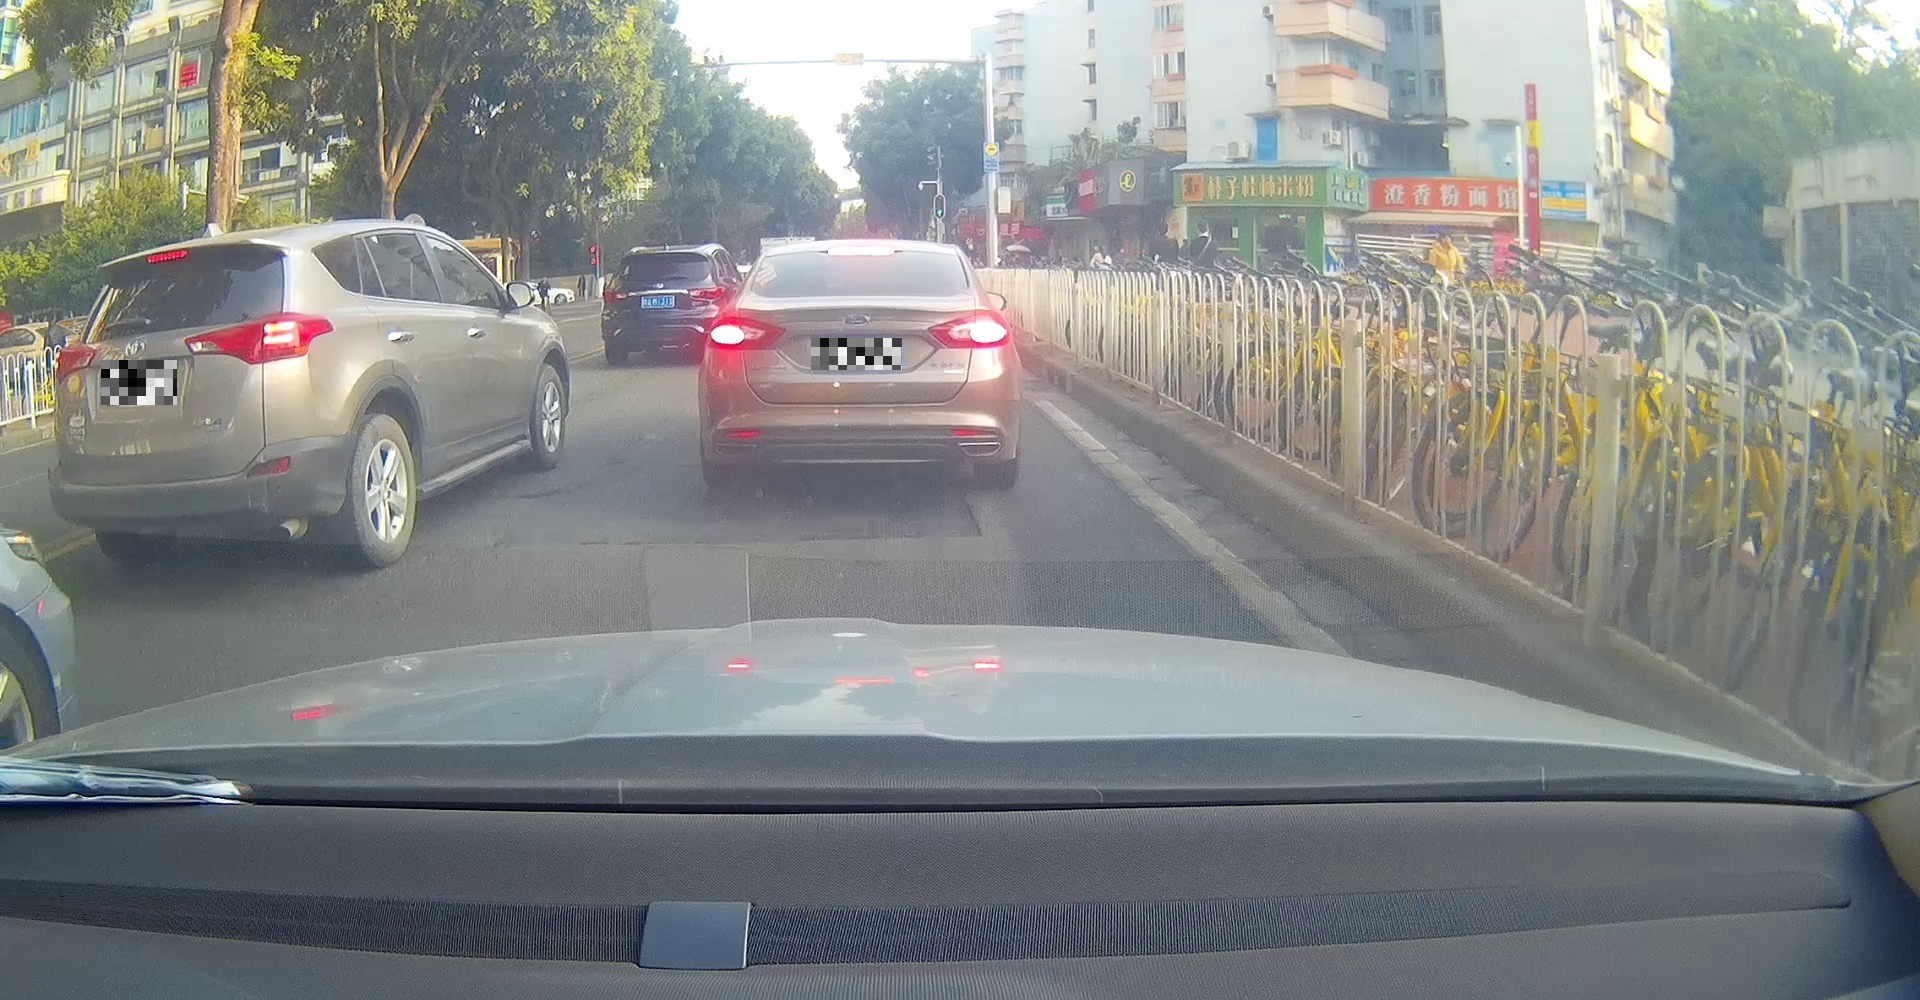L_light: (703, 315, 787, 350), (52, 344, 99, 382)
R_light: (183, 308, 333, 367), (926, 310, 1012, 349)
T_light: (145, 249, 188, 264), (827, 247, 895, 256)
day-brake: (47, 236, 334, 561), (698, 239, 1023, 484)
plate_1: (102, 360, 177, 405)
plate_2: (811, 338, 902, 371)
